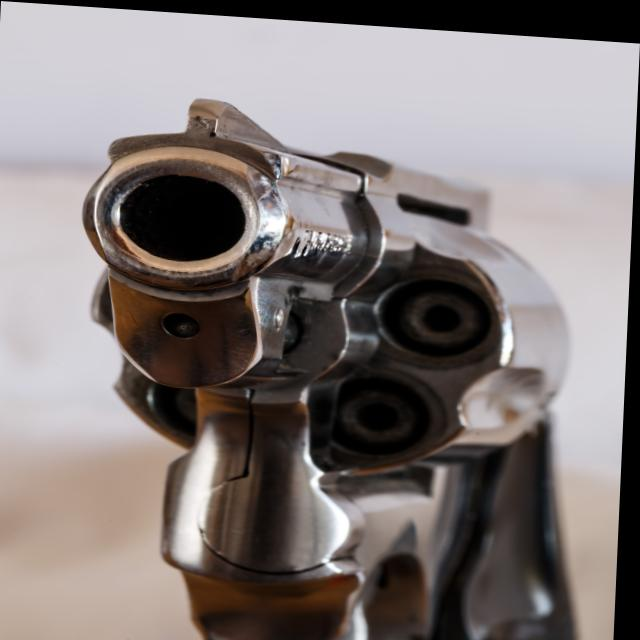handgun: (64, 87, 606, 640)
